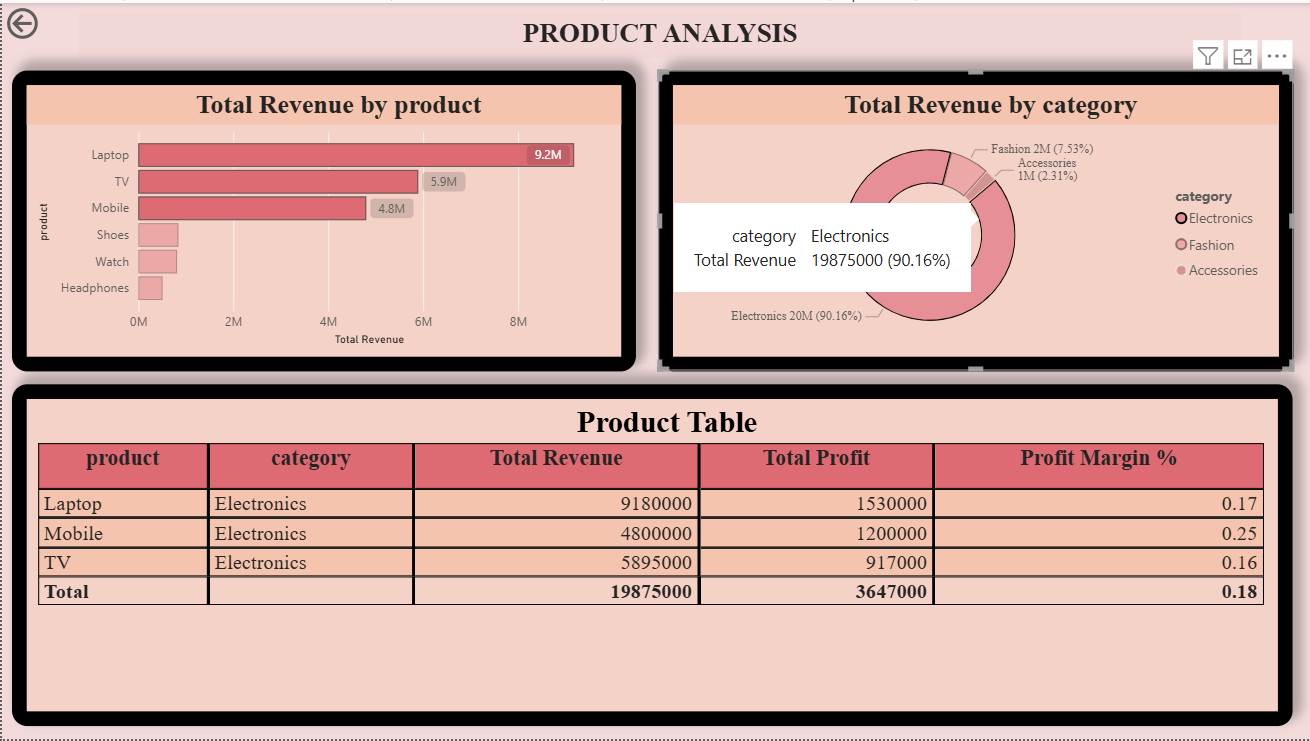

Layout of this report page (visuals, bound fields, positions):
{"tool":"powerbi","page":{"name":"PRODUCTS ANALYSIS ","canvas":[1280,720],"ordinal":1},"visuals":[{"type":"clusteredBarChart","fields":{"Category":["Sales_Data_FIXED.product"],"Y":["Sales_Data_FIXED.Total Revenue"]},"box":[10,65.7,610,294.3],"z":0},{"type":"donutChart","fields":{"Category":["Sales_Data_FIXED.category"],"Y":["Sales_Data_FIXED.Total Revenue"]},"box":[641.4,65.7,621.4,294.3],"z":1000},{"type":"tableEx","title":"Product Table","fields":{"Values":["Sales_Data_FIXED.product","Sales_Data_FIXED.category","Sales_Data_FIXED.Total Revenue","Sales_Data_FIXED.Total Profit","Sales_Data_FIXED.Profit Margin %"]},"box":[10,372.9,1252.9,334.3],"z":2000},{"type":"actionButton","box":[0,0,100,40],"z":3000},{"type":"textbox","box":[74.3,10,1138.6,44.3],"z":4000}]}

Visuals, with their boxes in screenshot pixels (x1, y1, x2, y2), scaled from the page's 1280x720 canvas onto the 1310x741 screenshot:
clusteredBarChart - Sales_Data_FIXED.product x Sales_Data_FIXED.Total Revenue: select_region(10, 68, 635, 370)
donutChart - Sales_Data_FIXED.category x Sales_Data_FIXED.Total Revenue: select_region(656, 68, 1292, 370)
"Product Table" tableEx: select_region(10, 384, 1292, 728)
actionButton: select_region(0, 0, 102, 41)
textbox: select_region(76, 10, 1241, 56)
